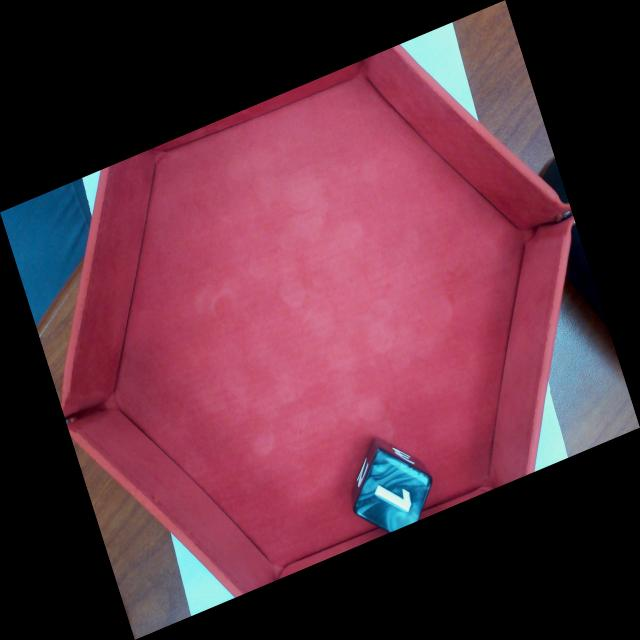dice: (355, 451, 432, 531)
